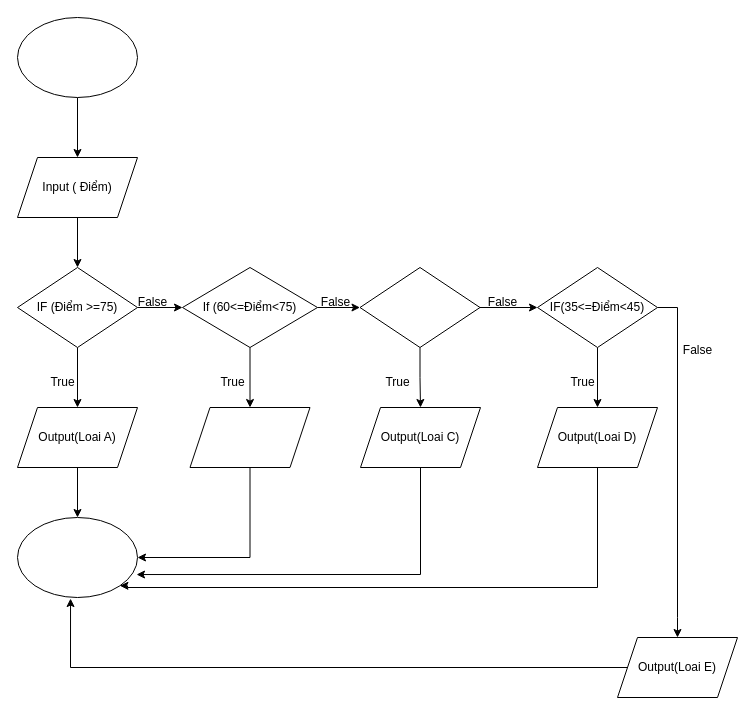
This 755x715 diagram has some shape labels left out. Here are the shapes that lost their labels. From the top down, the centre of each, then its label:
At (x=77, y=57): "Begin".
At (x=419, y=307): "If(45<=Điểm<60)".
At (x=249, y=437): "Output(loai B)".
At (x=77, y=557): "End".
